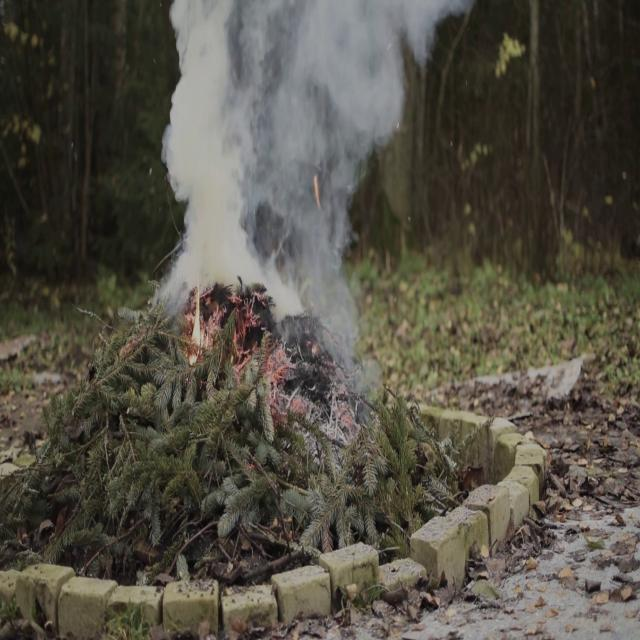Smoke: (156, 1, 413, 318)
